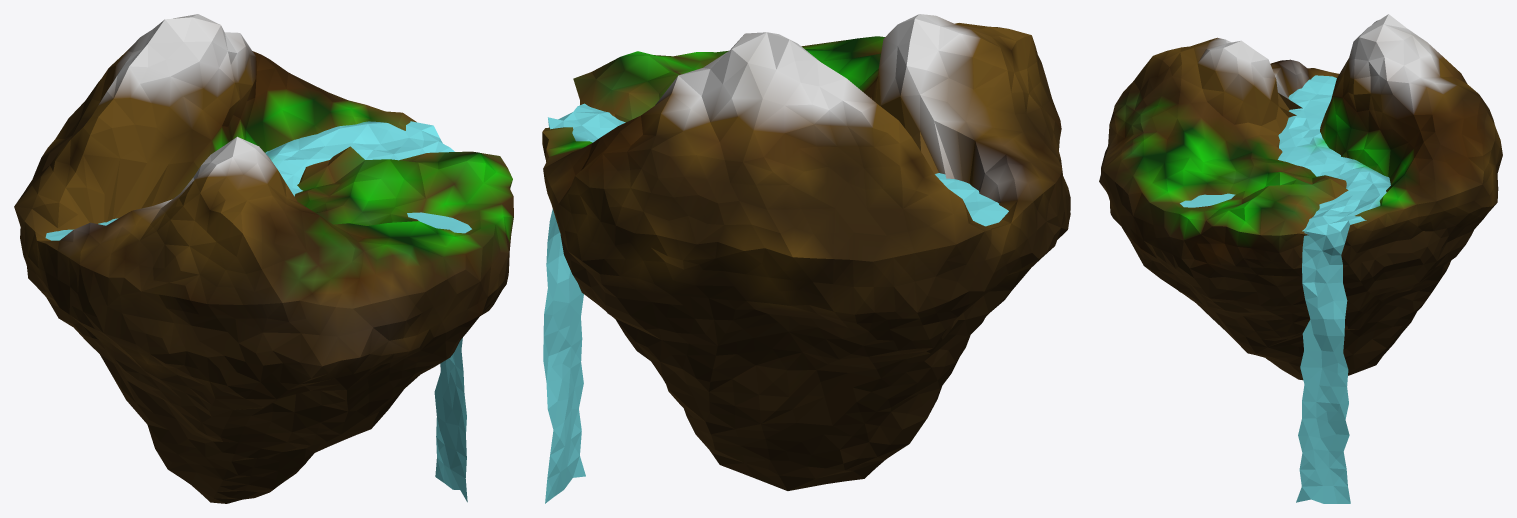
The model's file is baseModel.gltf.
3 renders of one model, left to right at view 1: azimuth 30°, elevation 25°; view 2: azimuth 150°, elevation 25°; view 3: azimuth 270°, elevation 25°, orthographic. The views are drawn at different scales.
Visible parts, largest first — view 1: Icosphere; view 2: Icosphere; view 3: Icosphere.
Boxes of the visible parts, box(x1,y1,x2,y2) form: Icosphere: box(14, 14, 513, 503); Icosphere: box(542, 14, 1070, 503); Icosphere: box(1099, 14, 1502, 503).
Size of the model in its own units: 1.66 by 1.83 by 1.7.
